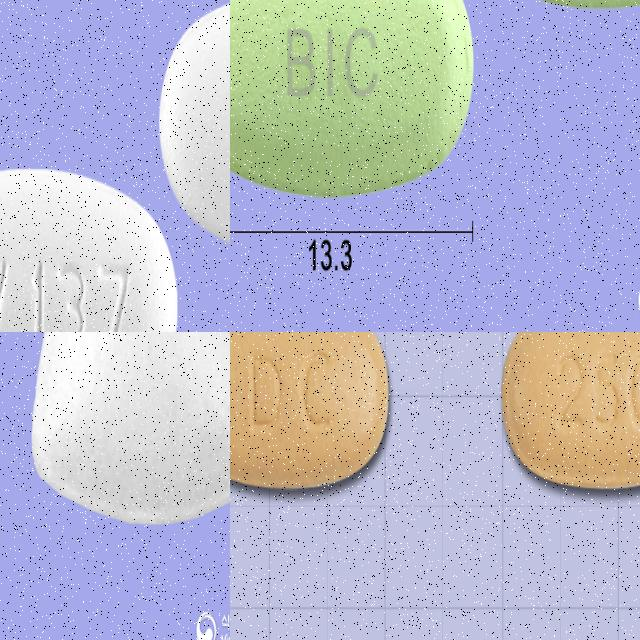Arava: (25, 332, 230, 530)
Clasta: (230, 0, 475, 202)
Dongkoo Levofloxacin Hydrate Tab-250mg: (230, 332, 390, 491), (501, 332, 640, 490)
Dovato: (0, 166, 178, 332), (158, 0, 230, 258)
